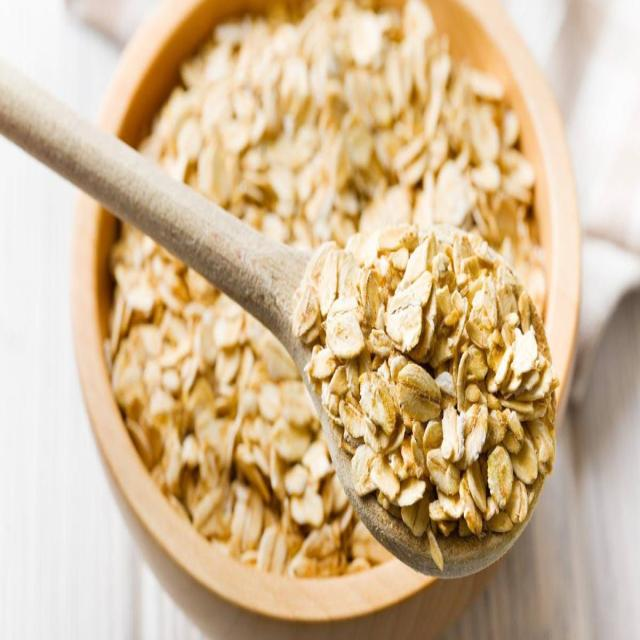avena: (300, 199, 568, 578)
